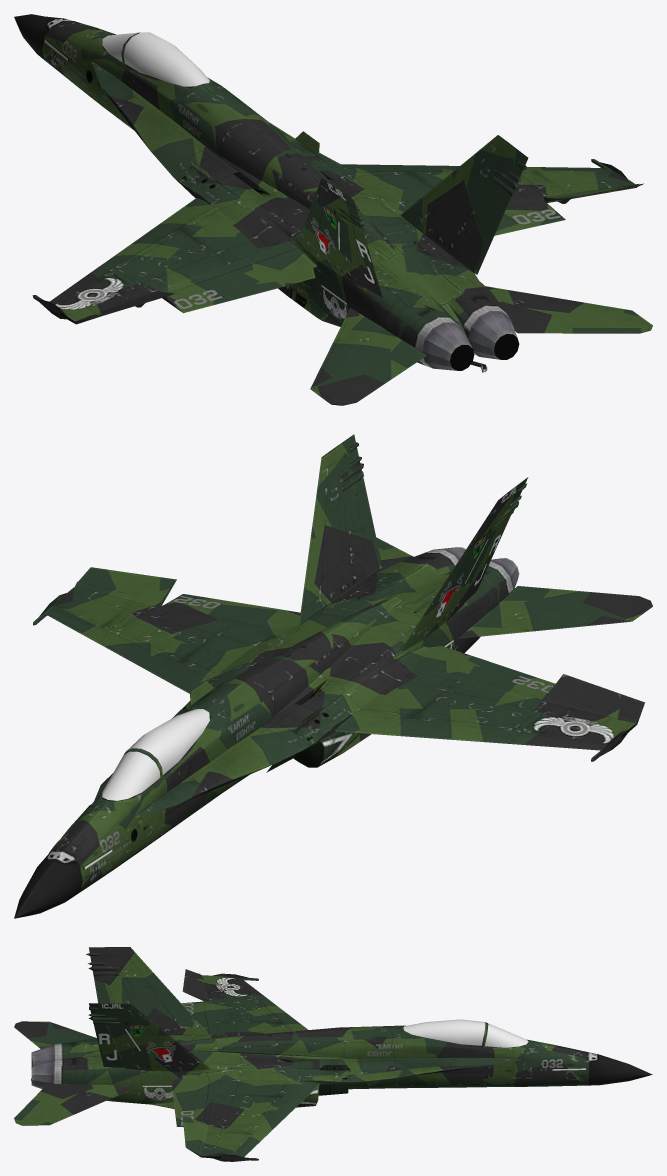
File: clipper_f18.glb
3 renders of one model, top to bottom at view 1: azimuth 30°, elevation 25°; view 2: azimuth 150°, elevation 25°; view 3: azimuth 270°, elevation 25°, orthographic. The views are drawn at different scales.
Parts seen in each view (by area): view 1: fa_18c_finland_2.001, fa_18c_finland_2.002; view 2: fa_18c_finland_2.001, fa_18c_finland_2.002; view 3: fa_18c_finland_2.001, fa_18c_finland_2.002.
Boxes of the visible parts, <box> form: fa_18c_finland_2.001: <box>14,14,652,405</box>; fa_18c_finland_2.002: <box>102,32,209,86</box>; fa_18c_finland_2.001: <box>14,434,652,918</box>; fa_18c_finland_2.002: <box>102,709,209,800</box>; fa_18c_finland_2.001: <box>14,947,652,1161</box>; fa_18c_finland_2.002: <box>403,1019,528,1047</box>.
Size of the model in its own units: 11.45 by 3.57 by 17.07.
Materials: 5 (1 with a texture image).
